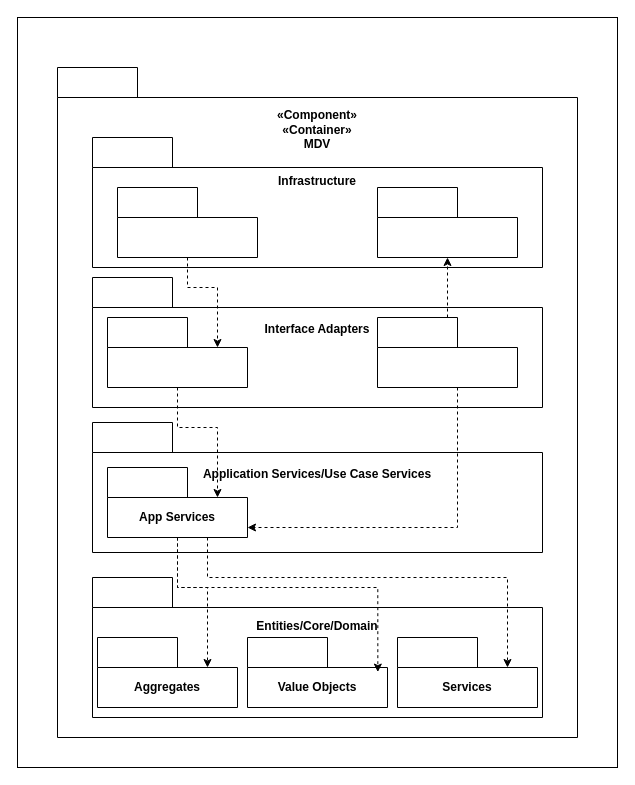
This 635x785 diagram has some shape labels left out. The box of each missing label's shape, as (x1, y1, x2, y2) in pixels:
Controllers: (106, 316, 248, 388)
Persistence: (376, 186, 518, 258)
Repositories: (376, 316, 518, 388)
Routes: (116, 186, 258, 258)
